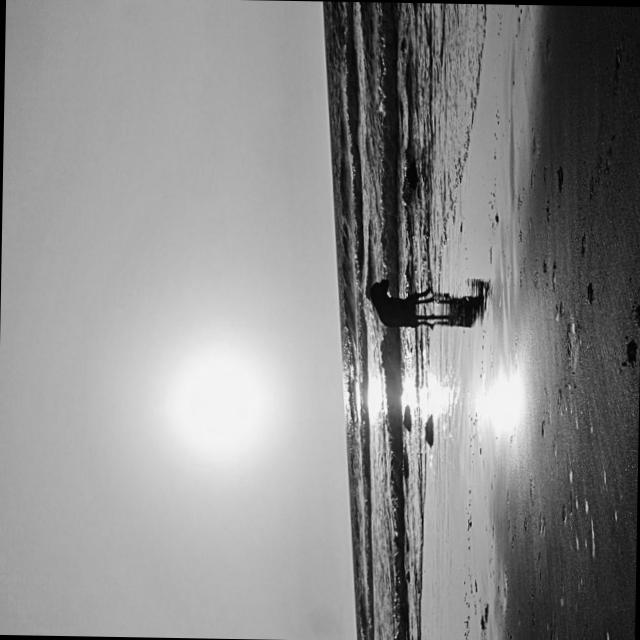squatting: (364, 272, 442, 337)
